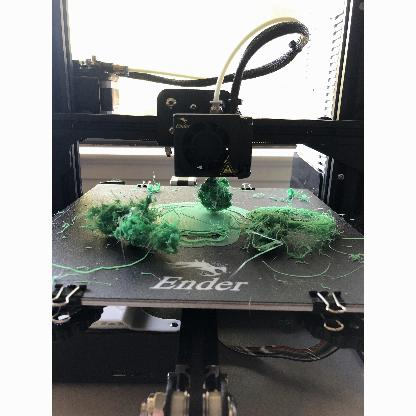fail: (243, 206, 335, 262)
